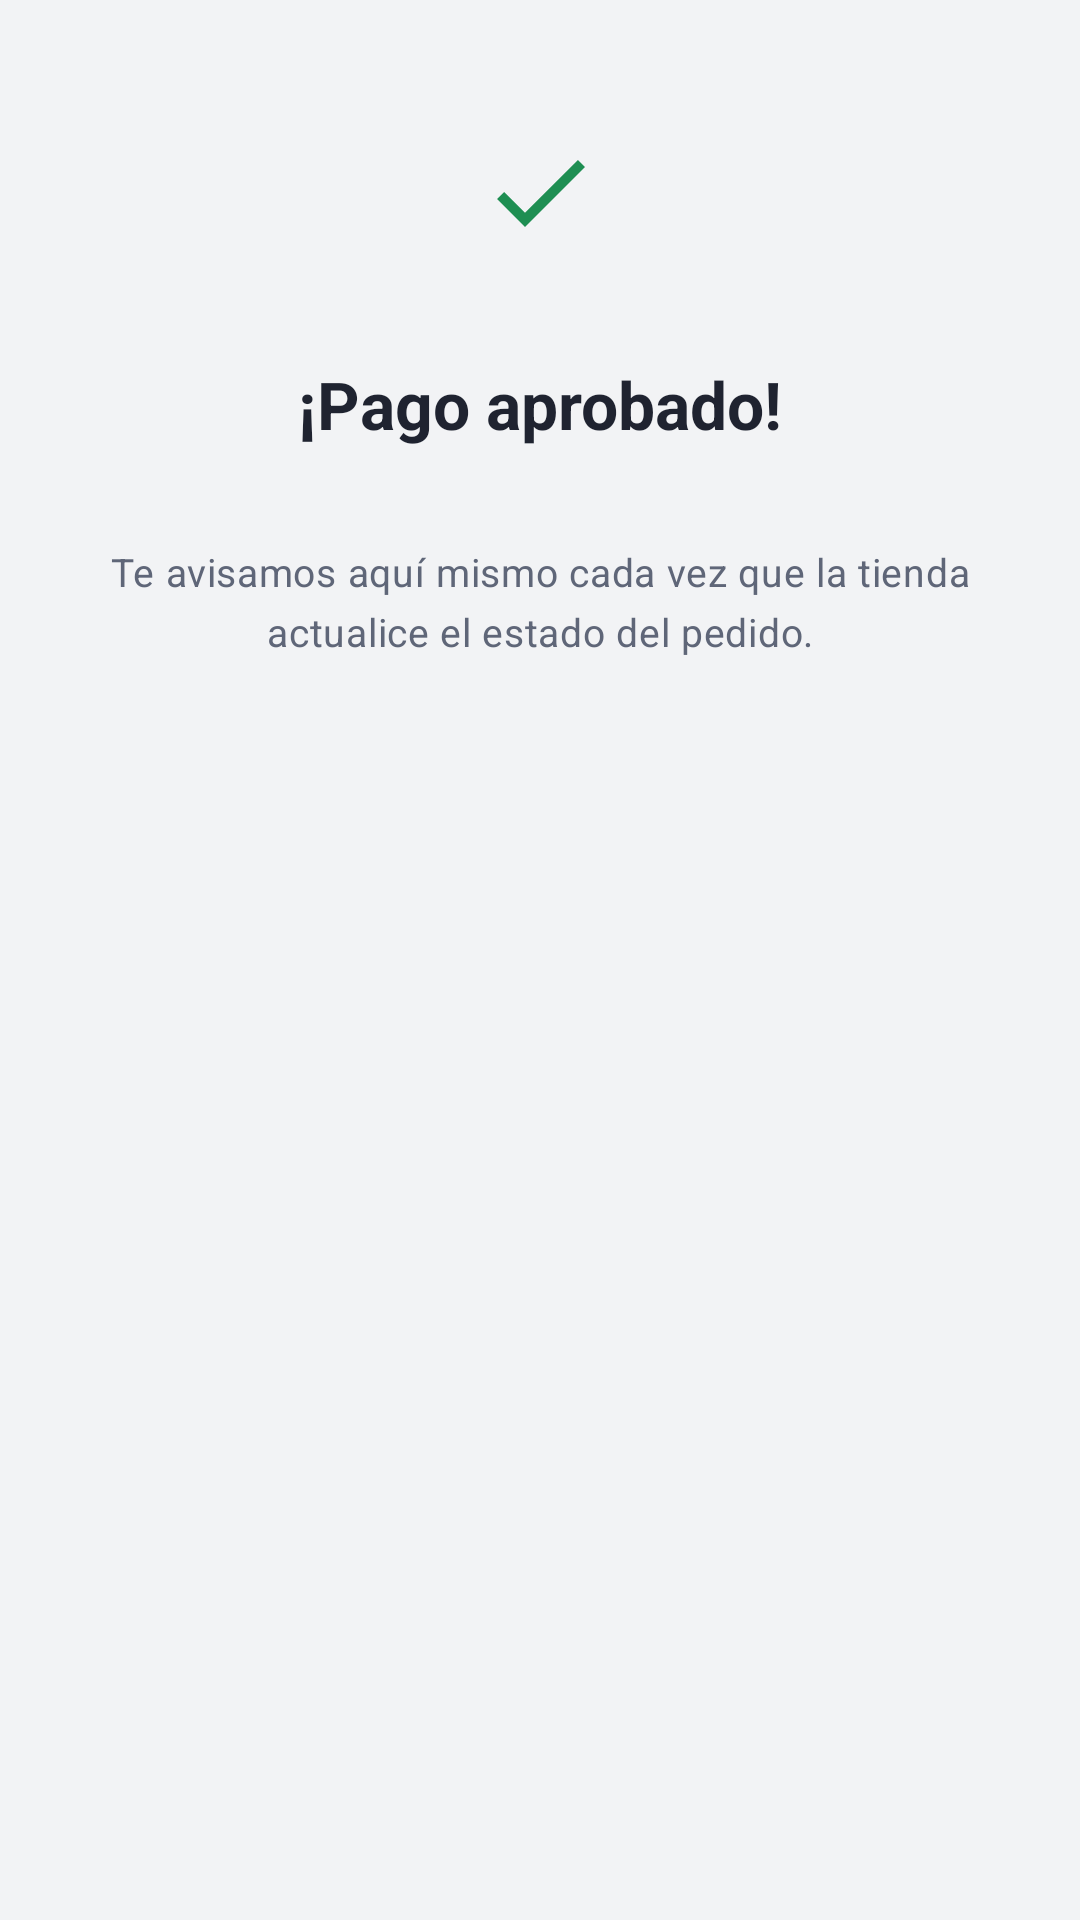

Icons on this 1080px x 1920px Android screen, each with its box as (x1, y1, x2, y2):
check: (497, 160, 585, 227)
